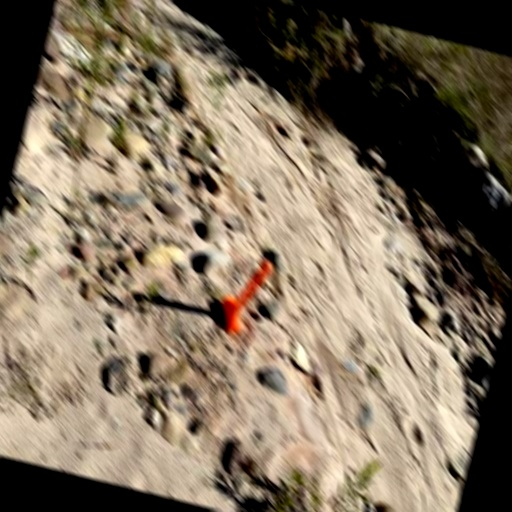mallet: (214, 252, 274, 340)
